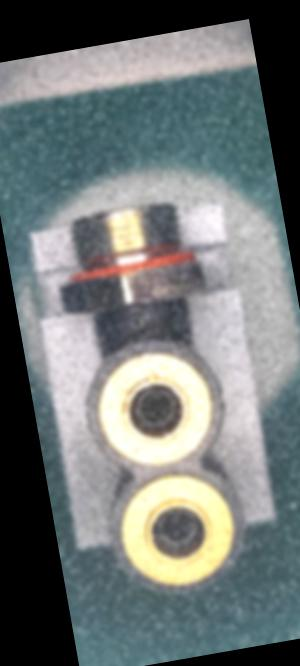craze: (127, 303, 150, 341)
